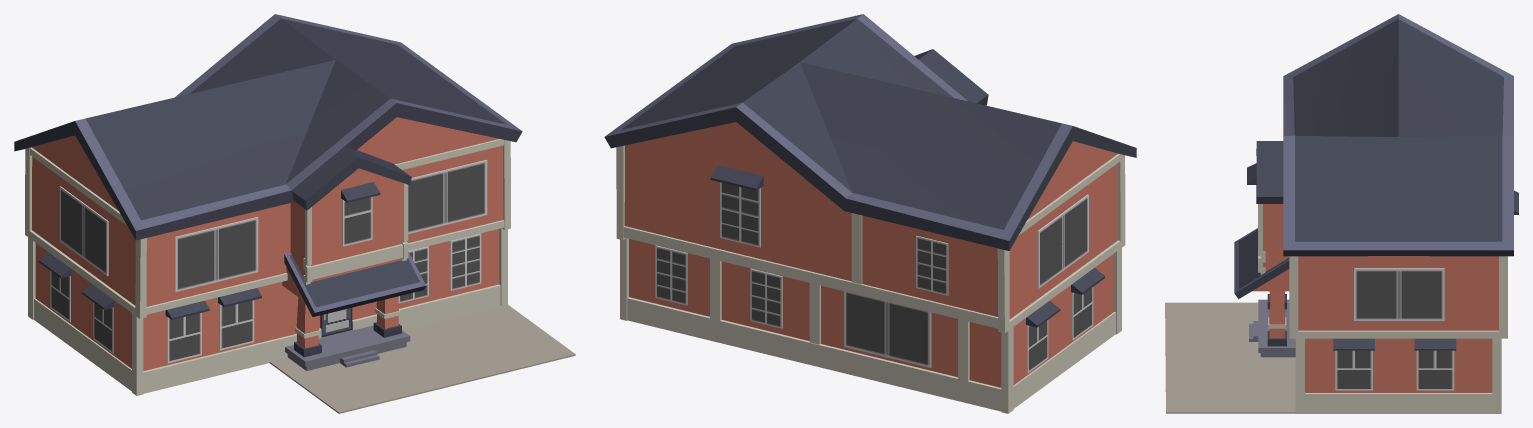
Rendered from house04_color03.fbx.
The picture shows the model from 3 angles, left to right: view 1: azimuth 30°, elevation 25°; view 2: azimuth 150°, elevation 25°; view 3: azimuth 270°, elevation 25°; orthographic projection. The views are drawn at different scales.
Visible parts, largest first — view 1: Cube.418, Cube.419; view 2: Cube.418; view 3: Cube.418, Cube.419.
Boxes of the visible parts, x1,y1,x2,y2 form: Cube.418: (14, 14, 522, 395); Cube.419: (269, 304, 575, 413); Cube.418: (604, 14, 1136, 413); Cube.418: (1234, 14, 1518, 413); Cube.419: (1165, 302, 1295, 413).
Size of the model in its own units: 1569 by 917 by 1309.
